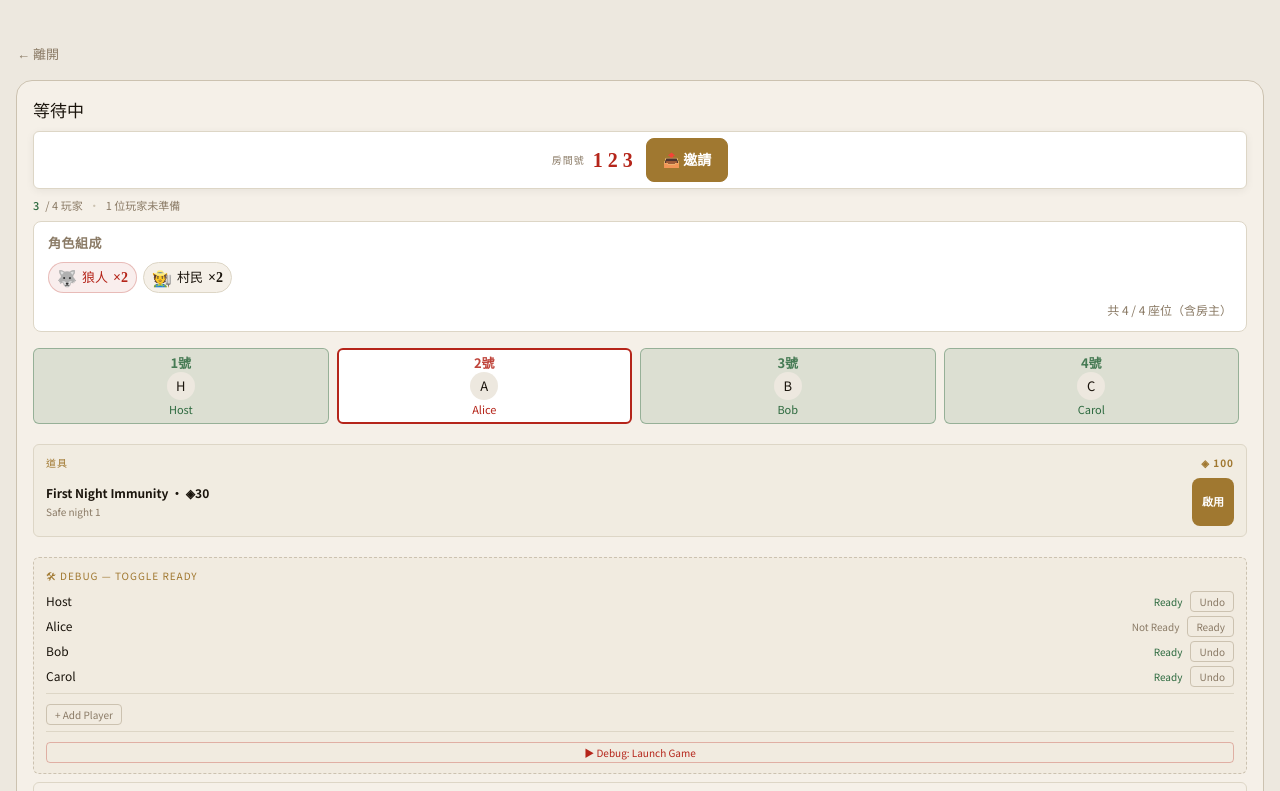
Test case: RoomView perk panel › disables the guest Ready button while a perk request is in flight
Click the button with test id "perk-activate-btn". click: x=1213, y=502
box: [1192,478,1234,526]
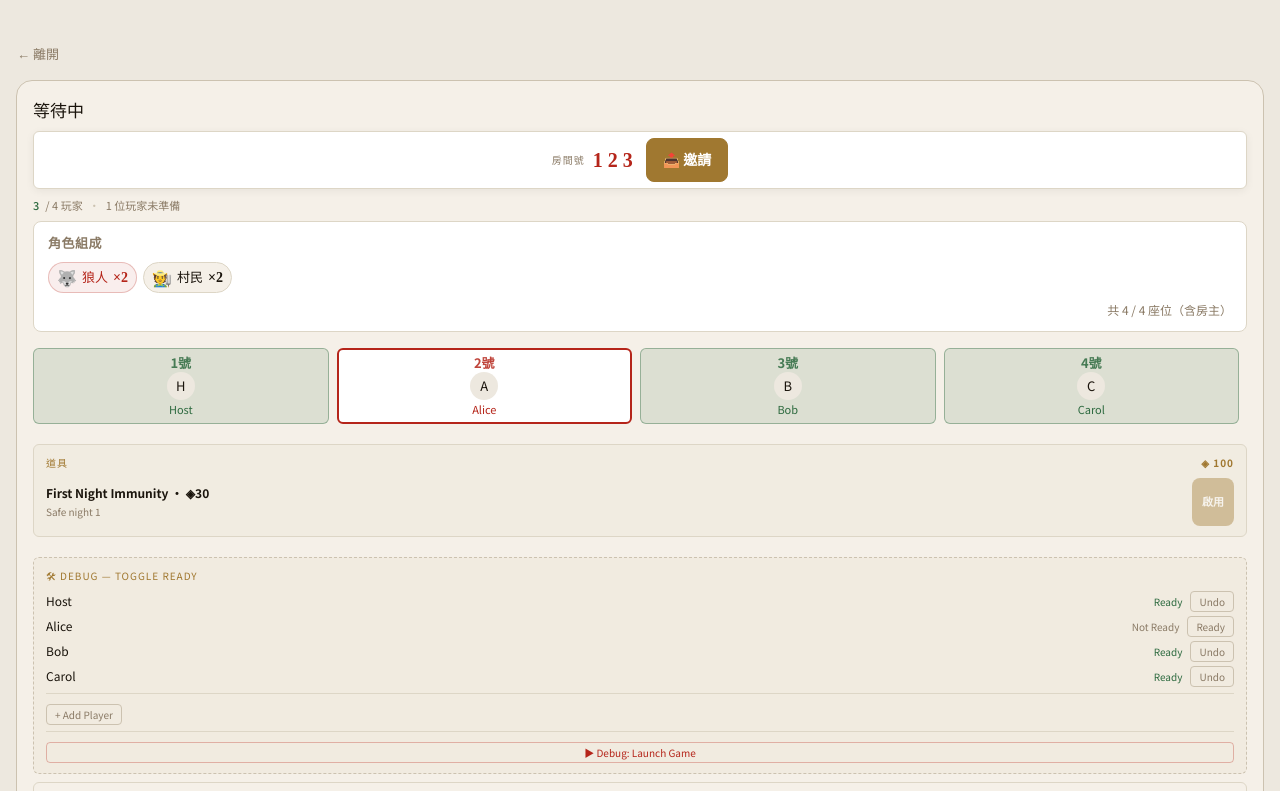
Check: the button with class "btn-gold" is disabled, box [1192,478,1234,526]
